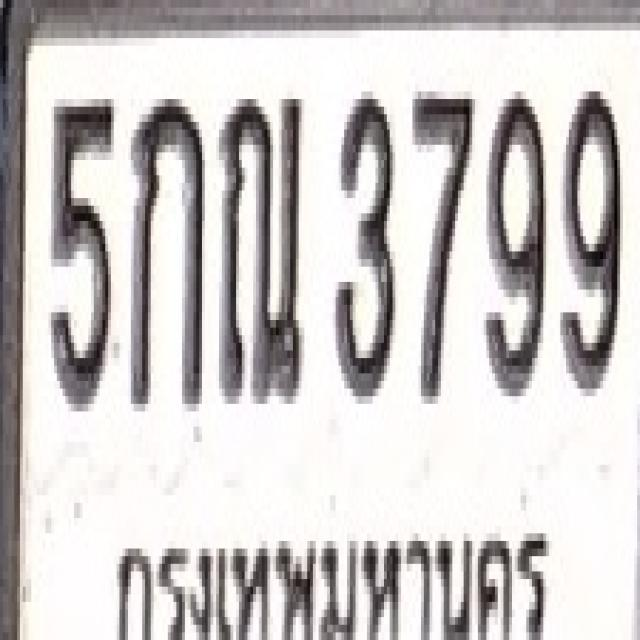3: (333, 88, 395, 400)
5: (50, 91, 112, 412)
7: (411, 84, 474, 404)
9: (484, 84, 546, 396), (560, 84, 620, 388)
A01: (128, 88, 205, 408)
A19: (216, 88, 304, 408)
BKK: (106, 484, 556, 640)
